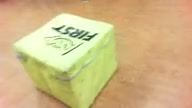cube: (12, 12, 120, 108)
